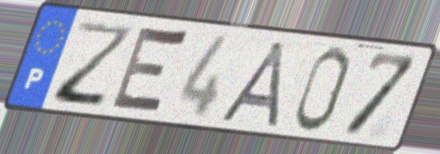0: (293, 43, 352, 135)
4: (174, 31, 232, 122)
7: (342, 50, 421, 140)
A: (214, 39, 289, 131)
E: (105, 22, 194, 120)
Z: (50, 19, 138, 111)
